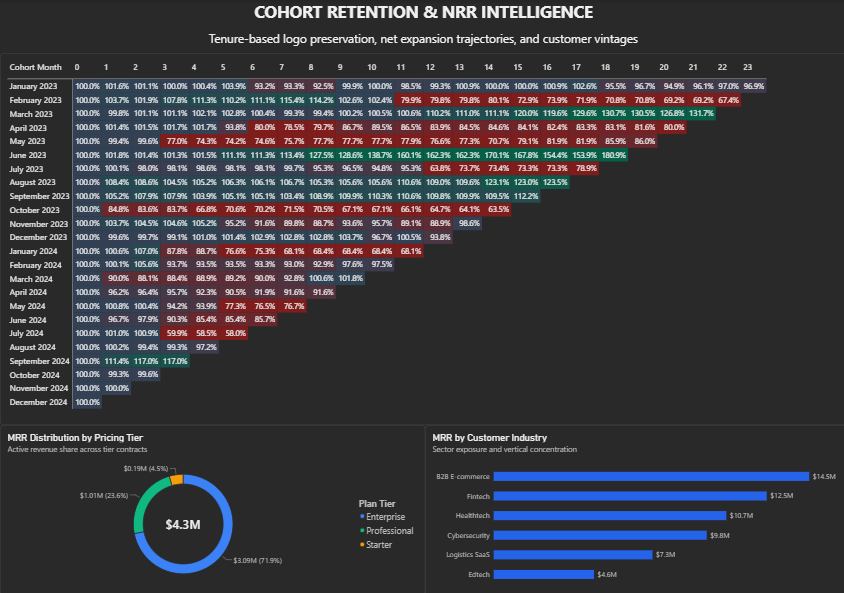

The dashboard page shown, as its layout file describes it:
{"tool":"powerbi","page":{"name":"Cohort Retention & NRR Matrix","canvas":[1920,1350],"ordinal":1},"visuals":[{"type":"textbox","box":[0,0,1920,120],"z":0},{"type":"pivotTable","fields":{"Columns":["vw_cohort_nrr_matrix.tenure_months"],"Rows":["vw_cohort_nrr_matrix.cohort_month"],"Values":["_Measures.NRR %"]},"box":[0,120,1920,840],"z":1000},{"type":"donutChart","title":"MRR Distribution by Pricing Tier","fields":{"Category":["saas_subscription_ledger.plan_tier"],"Y":["_Measures.Latest Tier MRR"]},"box":[0,960,960,384],"z":1001},{"type":"clusteredBarChart","title":"MRR by Customer Industry","fields":{"Category":["saas_subscription_ledger.industry"],"Y":["Sum(saas_subscription_ledger.mrr_amount)"]},"box":[960,960,960,384],"z":1002}]}

Visuals, with their boxes in screenshot pixels (x1, y1, x2, y2), scaled from the page's 1920x1350 canvas onto the 844x593 screenshot:
textbox: {"left": 0, "top": 0, "right": 843, "bottom": 53}
pivotTable - vw_cohort_nrr_matrix.tenure_months x vw_cohort_nrr_matrix.cohort_month: {"left": 0, "top": 53, "right": 843, "bottom": 422}
"MRR Distribution by Pricing Tier" donutChart: {"left": 0, "top": 422, "right": 422, "bottom": 590}
"MRR by Customer Industry" clusteredBarChart: {"left": 422, "top": 422, "right": 843, "bottom": 590}
